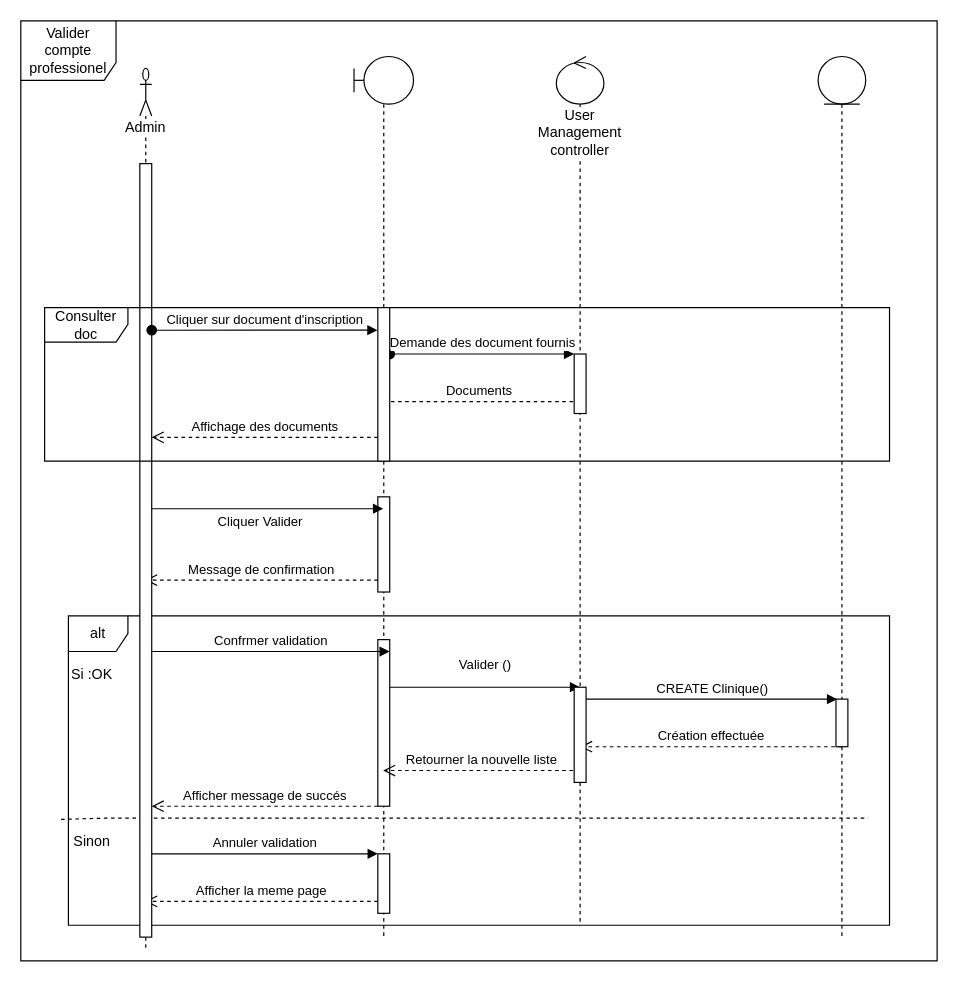
The diagram is 958 pixels wide and 982 high, and some of its shapes have lost their labels. The shapes that lost their labels are listed below. From the top down, each one's box as (x1, y1, x2, y2) in pixels, then its label:
(353, 55, 414, 937): User Management
(817, 55, 866, 937): SGBD
